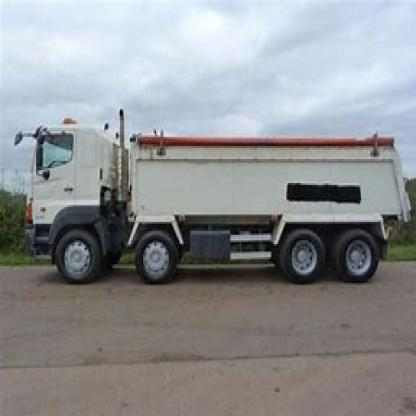dump_truck: (13, 92, 415, 324)
